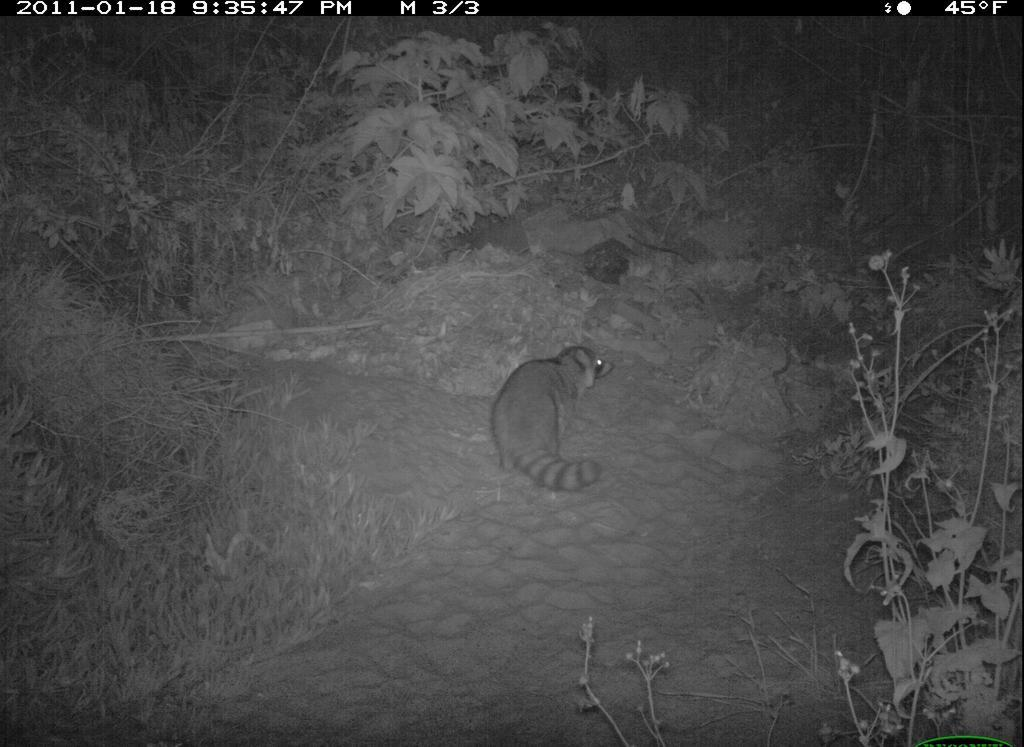raccoon: (486, 322, 623, 498)
